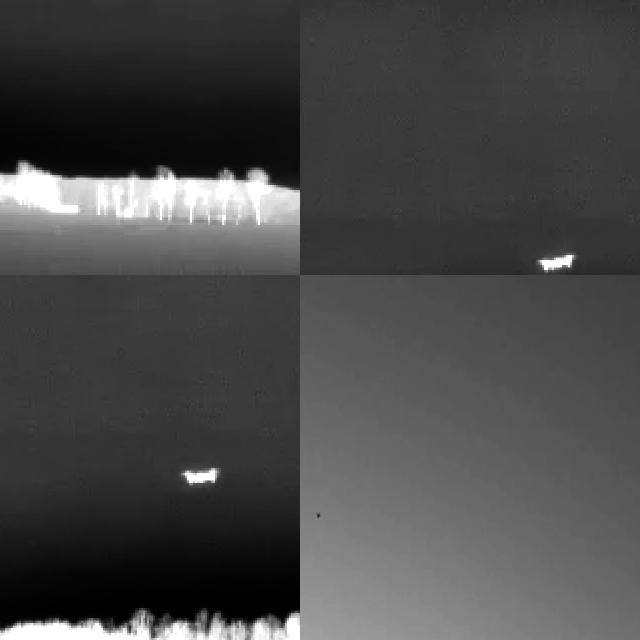1: (172, 460, 232, 496), (528, 247, 588, 275)
drone: (314, 509, 323, 524)
